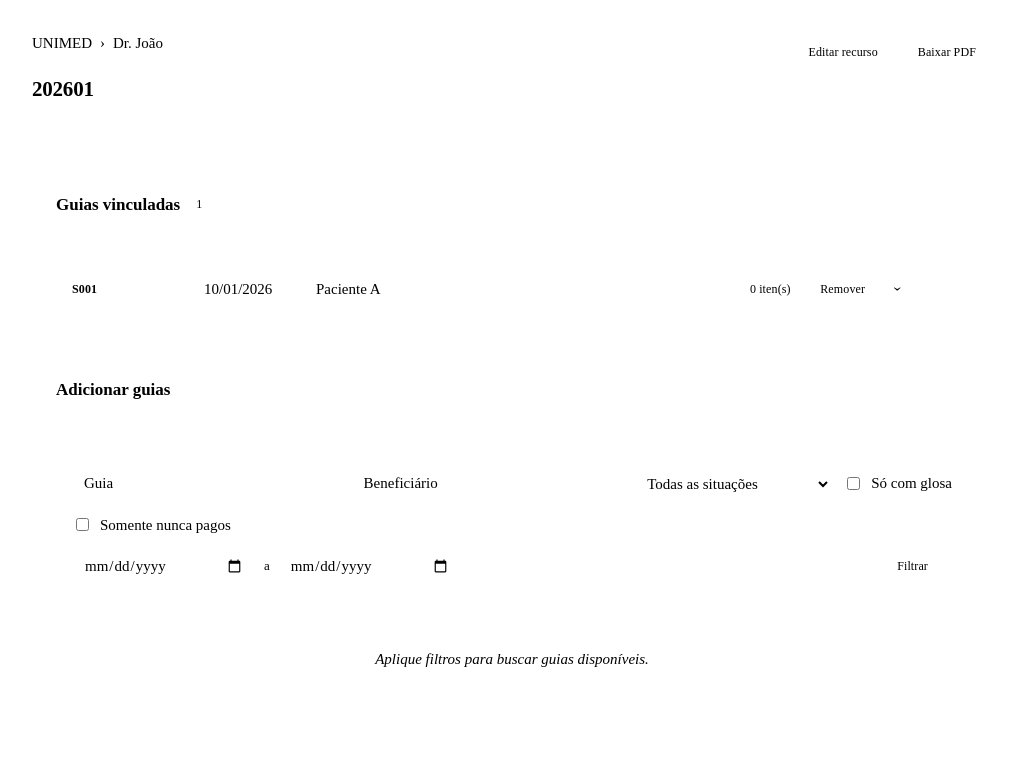
Test: RecursoGuiasComponent › deve exibir selo "Não recorrível" quando candidata.naoRecorrivel é true
Click the button with class "recurso-guias__btn-filtrar" at (913, 566), box [873, 548, 952, 584]
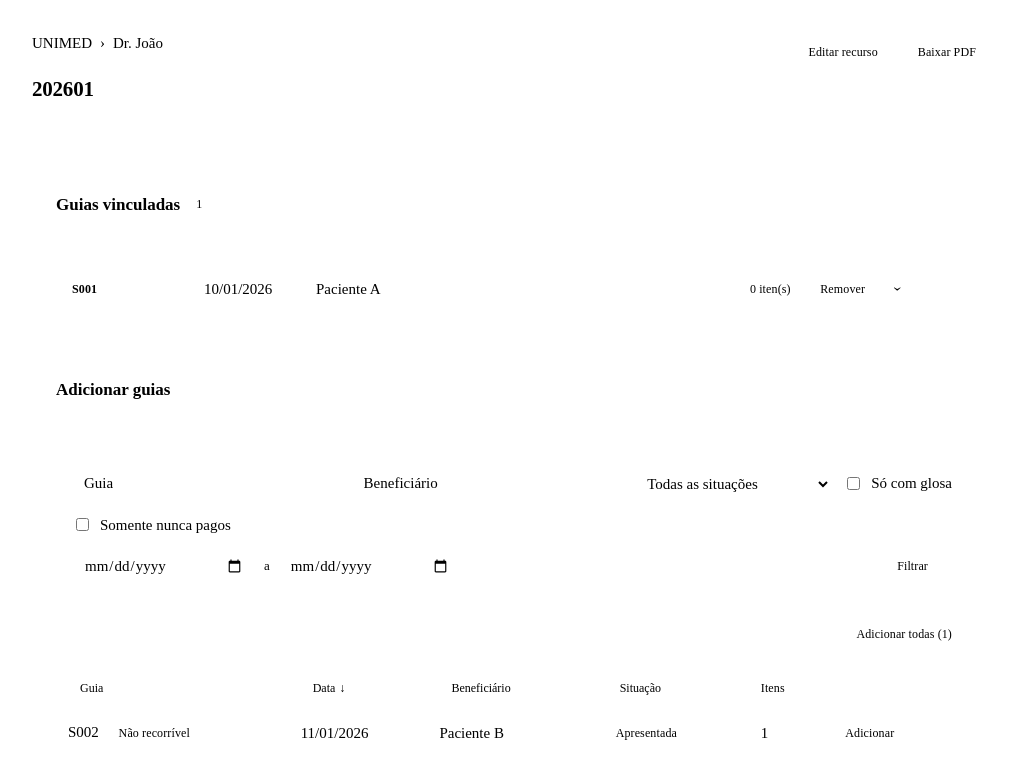
Expected: the text "Não recorrível" is shown, [119, 726, 190, 740]
